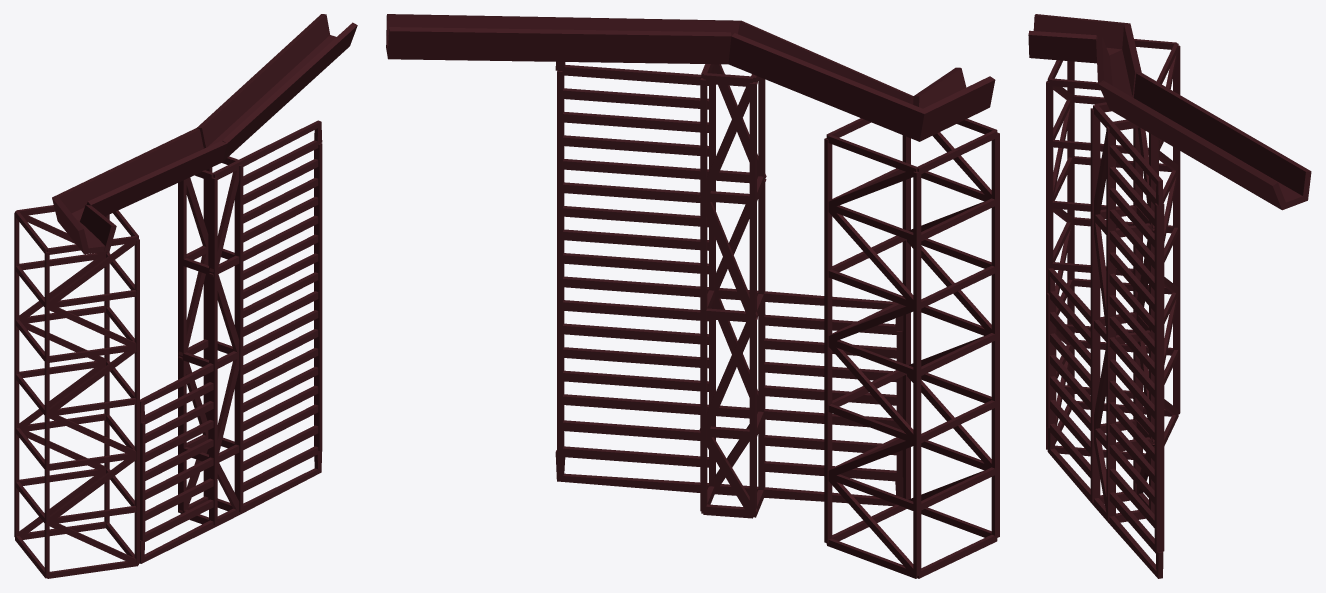
The model's file is level_one_water_structure.fbx.
The picture shows the model from 3 angles, left to right: view 1: azimuth 30°, elevation 25°; view 2: azimuth 150°, elevation 25°; view 3: azimuth 270°, elevation 25°; orthographic projection. The views are drawn at different scales.
Visible parts, largest first — view 1: Aqueduct01; view 2: Aqueduct01; view 3: Aqueduct01.
Part boxes in pixels (bbox=[...]): Aqueduct01: bbox=[14, 14, 357, 578]; Aqueduct01: bbox=[386, 14, 999, 578]; Aqueduct01: bbox=[1028, 14, 1311, 578].
Bounding box in the file's own units: 1678 × 3116 × 2925.
